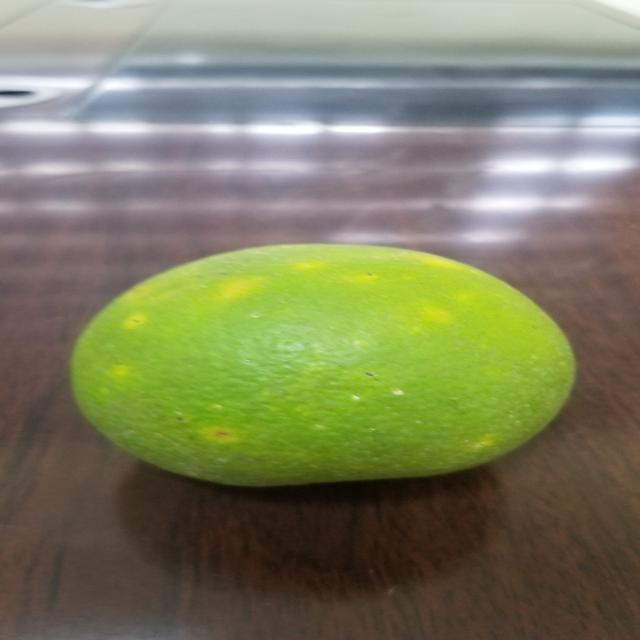agrume: (72, 232, 591, 497)
